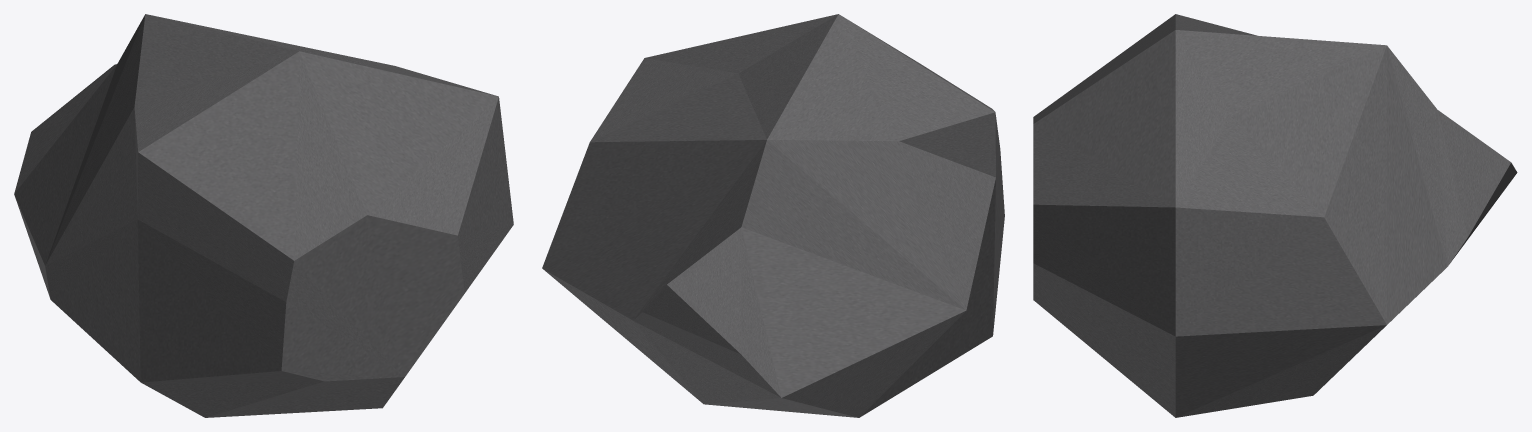
The model's file is all_share_rock_5.FBX.
The picture shows the model from 3 angles, left to right: view 1: azimuth 30°, elevation 25°; view 2: azimuth 150°, elevation 25°; view 3: azimuth 270°, elevation 25°; orthographic projection. The views are drawn at different scales.
Parts seen in each view (by area): view 1: rock_1; view 2: rock_1; view 3: rock_1.
Part boxes in pixels (left/top/right/bottom): rock_1: left=14, top=14, right=513, bottom=417; rock_1: left=542, top=14, right=1004, bottom=417; rock_1: left=1033, top=14, right=1517, bottom=417.
Bounding box in the file's own units: 448 × 397 × 497.
